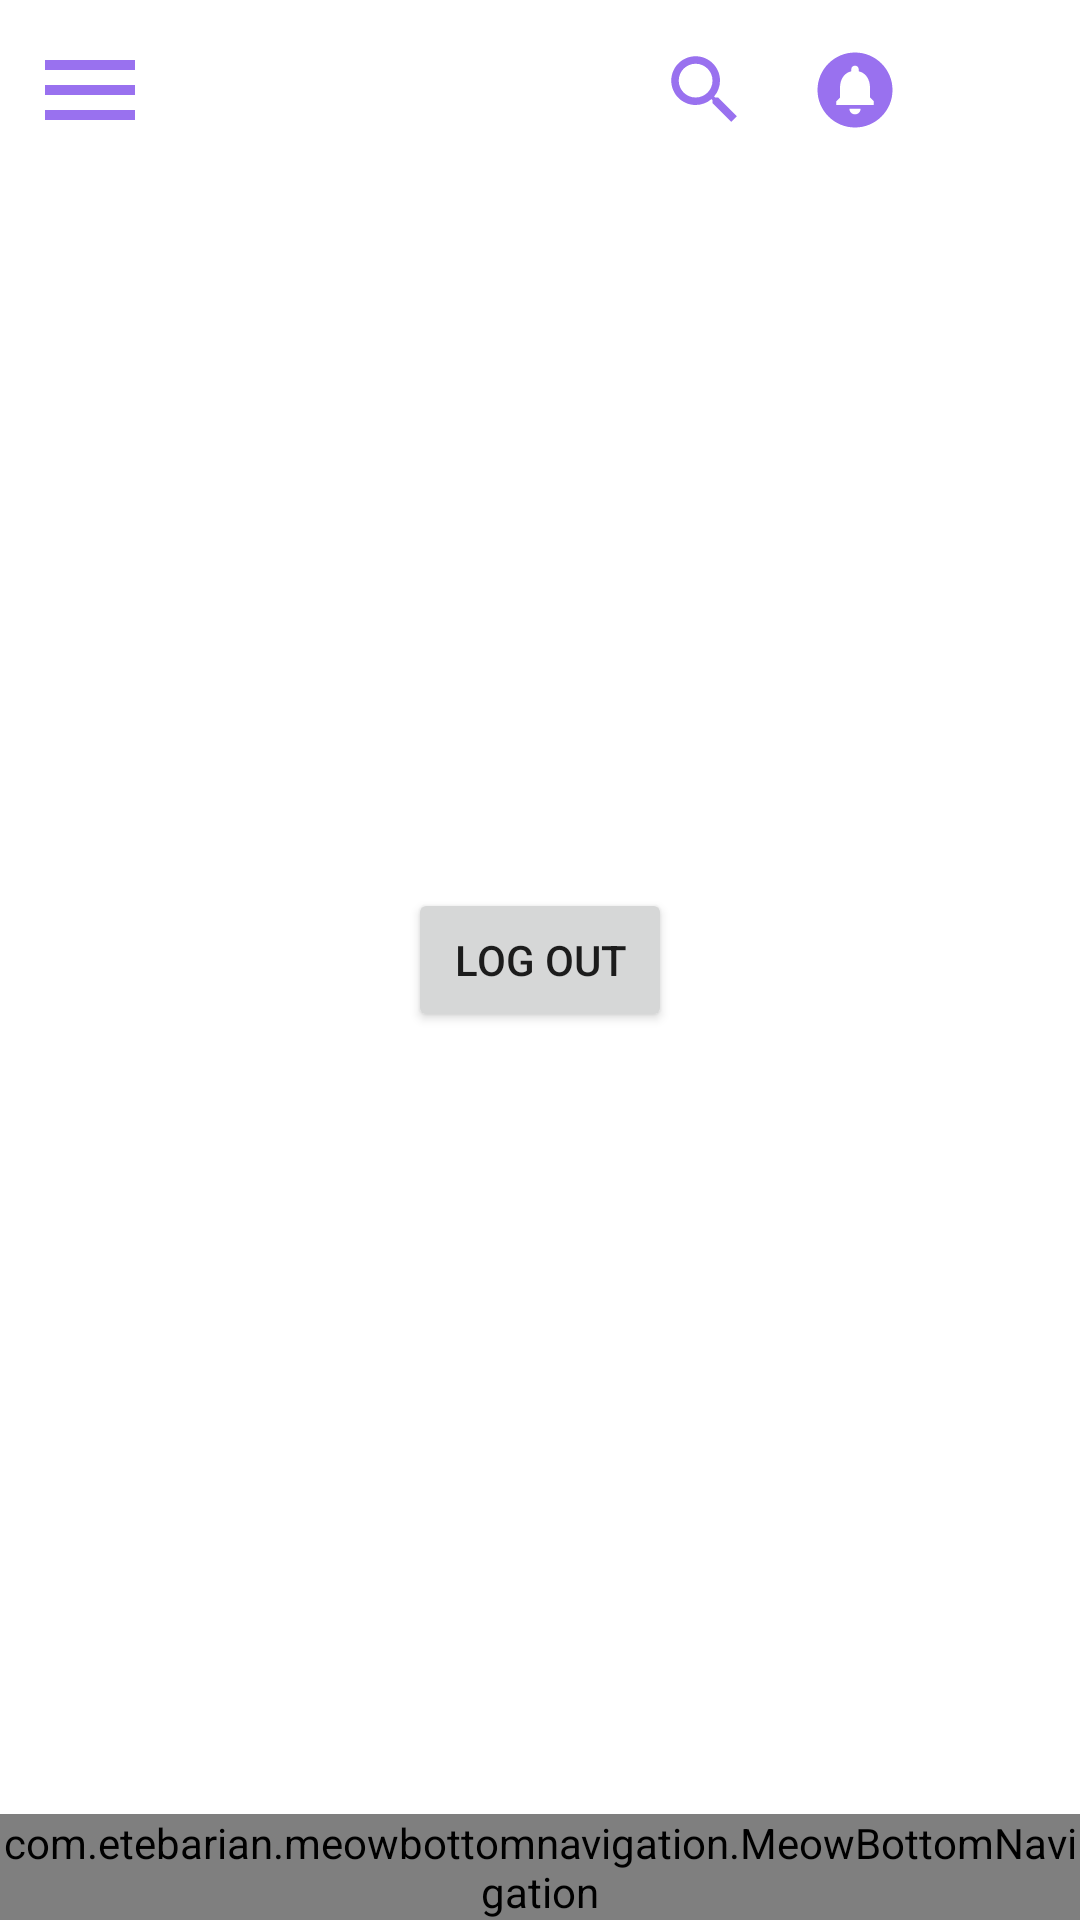

Named icons in this screenshot (1080px x 1920px) and their bounding boxes, BBox(x1, y1, x2, y2):
circle notifications: BBox(817, 52, 893, 128)
menu: BBox(45, 60, 135, 120)
search: BBox(671, 56, 737, 122)
